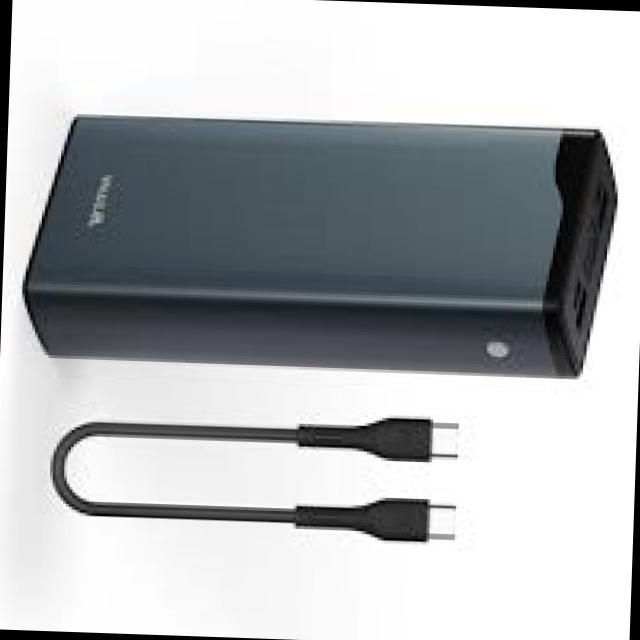power_bank: (15, 111, 622, 386)
